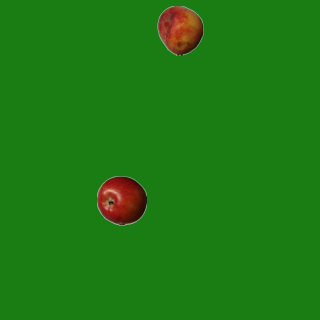Apple Braeburn: (96, 175, 146, 225)
Peach: (155, 5, 205, 55)
